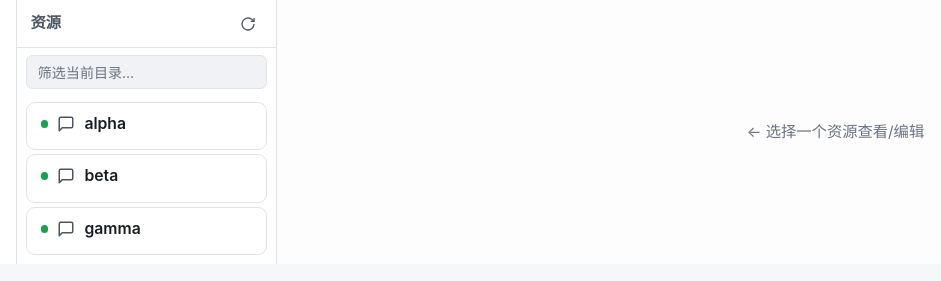
Scenario: VdfsWorkbench 列表筛选 › 服务端声明 search: true ⇒ 出现筛选框；输入即收窄列表（大小写不敏感）
expect the number of options is 3: met, box [26,102,267,150]; [26,154,267,203]; [26,207,267,255]
In the search field with placeholder "筛选当前目录…": (146,72) [26,55,267,89], type "BETA"
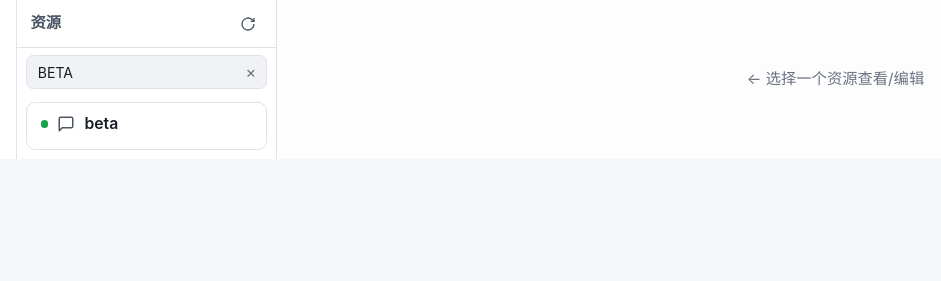
expect the option "beta" is shown: met, box [26,102,267,150]
expect the number of options is 1: met, box [26,102,267,150]
